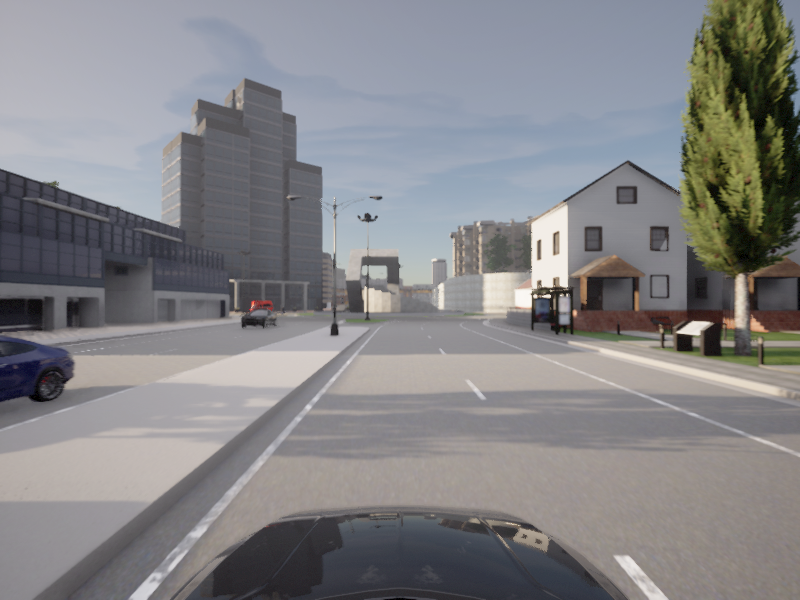vehicle: (0, 0, 799, 528), (0, 328, 92, 478), (236, 307, 279, 329)
